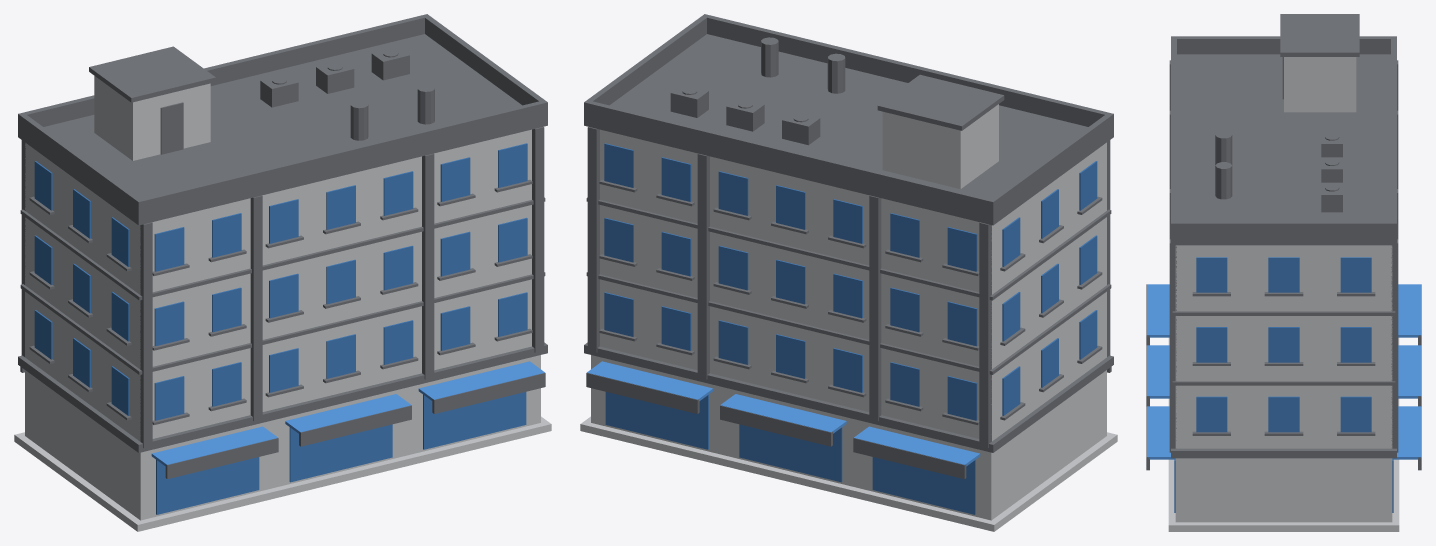
The model's file is Building_Block_02.fbx.
3 renders of one model, left to right at view 1: azimuth 30°, elevation 25°; view 2: azimuth 150°, elevation 25°; view 3: azimuth 270°, elevation 25°, orthographic. The views are drawn at different scales.
Visible parts, largest first — view 1: Building_Block_02_Trim, Building_Block_02_Structure, Building_Block_02_Windows, Building_Block_02_Accent; view 2: Building_Block_02_Structure, Building_Block_02_Trim, Building_Block_02_Windows, Building_Block_02_Accent; view 3: Building_Block_02_Trim, Building_Block_02_Structure, Building_Block_02_Windows, Building_Block_02_Accent.
Boxes of the visible parts, x1,y1,x2,y2 form: Building_Block_02_Trim: [18, 14, 547, 479]; Building_Block_02_Structure: [14, 76, 551, 531]; Building_Block_02_Windows: [34, 143, 527, 514]; Building_Block_02_Accent: [151, 361, 544, 466]; Building_Block_02_Structure: [580, 104, 1117, 531]; Building_Block_02_Trim: [584, 14, 1113, 479]; Building_Block_02_Windows: [604, 143, 1097, 514]; Building_Block_02_Accent: [587, 361, 980, 466]; Building_Block_02_Trim: [1146, 14, 1421, 470]; Building_Block_02_Structure: [1168, 57, 1399, 531]; Building_Block_02_Windows: [1174, 257, 1393, 512]; Building_Block_02_Accent: [1147, 284, 1420, 459].
Bounding box in the file's own units: 18.6 × 16.2 × 11.45.
